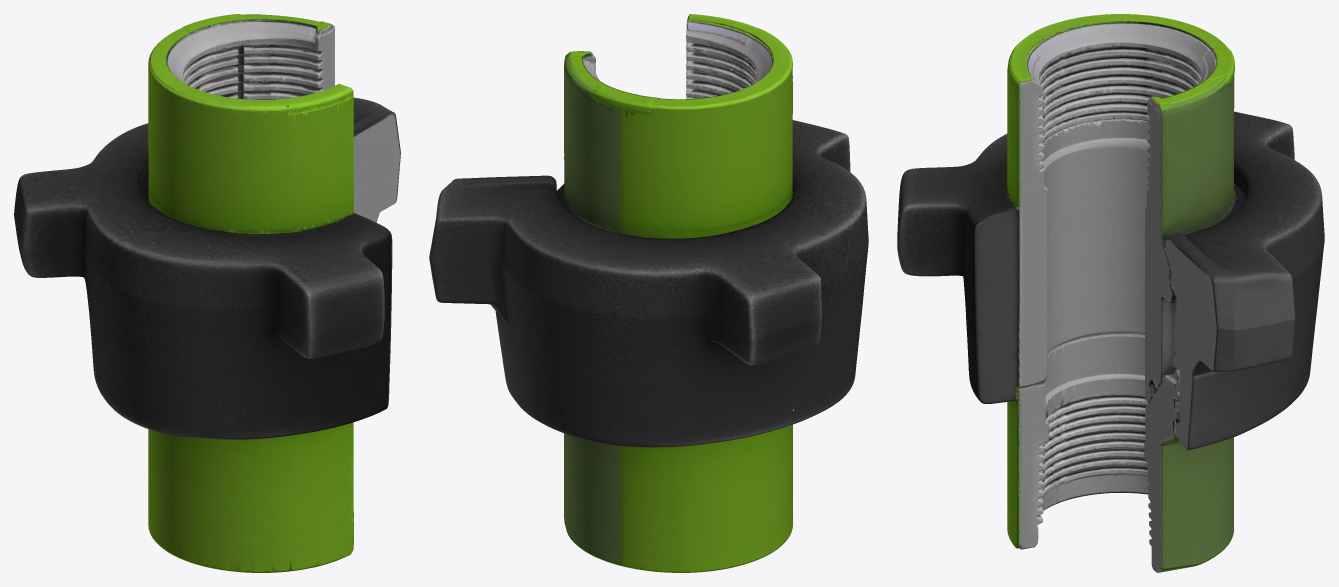
The model's file is UnionDeGolpeFigura1003.glb.
3 renders of one model, left to right at view 1: azimuth 30°, elevation 25°; view 2: azimuth 150°, elevation 25°; view 3: azimuth 270°, elevation 25°, orthographic.
Parts seen in each view (by area): view 1: tripo_node_3377651d-e4b5-48dc-9617-2ecf78b46a4d; view 2: tripo_node_3377651d-e4b5-48dc-9617-2ecf78b46a4d; view 3: tripo_node_3377651d-e4b5-48dc-9617-2ecf78b46a4d.
Part boxes in pixels (x1,y1,x2,y2): tripo_node_3377651d-e4b5-48dc-9617-2ecf78b46a4d: (14,14,400,572); tripo_node_3377651d-e4b5-48dc-9617-2ecf78b46a4d: (429,14,868,572); tripo_node_3377651d-e4b5-48dc-9617-2ecf78b46a4d: (897,14,1324,572).
Size of the model in its own units: 0.8312 by 0.9799 by 0.8068.
1 material, 1 textured.
